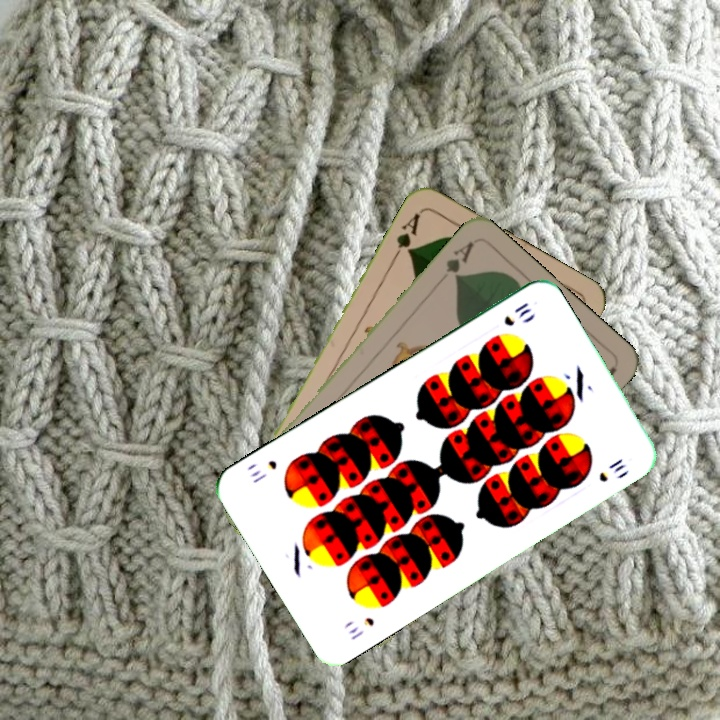GA: (389, 209, 423, 263), (441, 237, 477, 282)
S10: (499, 298, 534, 329), (344, 613, 377, 643)
